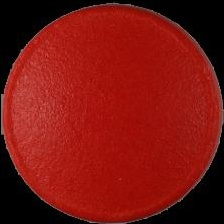0185-0704: (0, 0, 224, 224)
